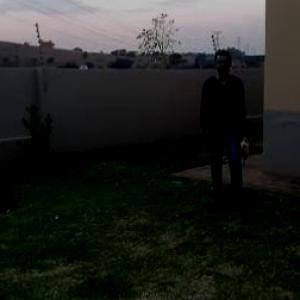follow: (204, 45, 254, 206)
